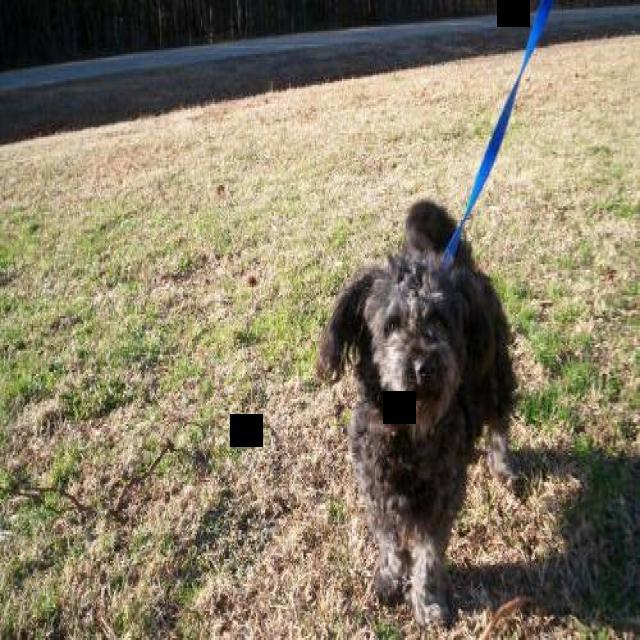adult_dog: (313, 188, 522, 629)
